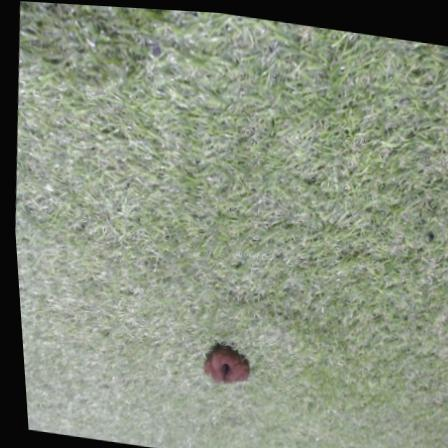dog-poop: (191, 336, 252, 390)
